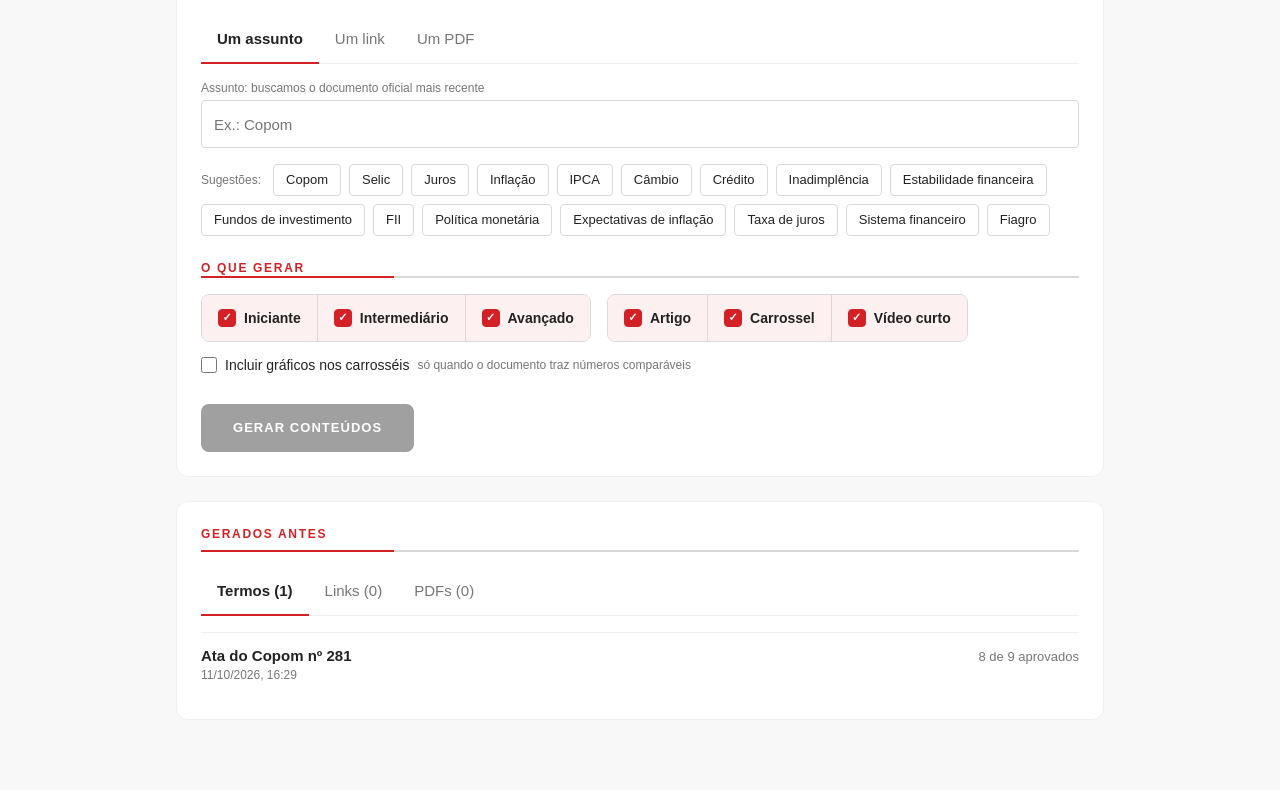
App › abre uma execução do histórico e volta ao início
(page scrolled)
Click the text "Ata do Copom nº 281": (276, 656) [201,647,352,664]
(page scrolled)
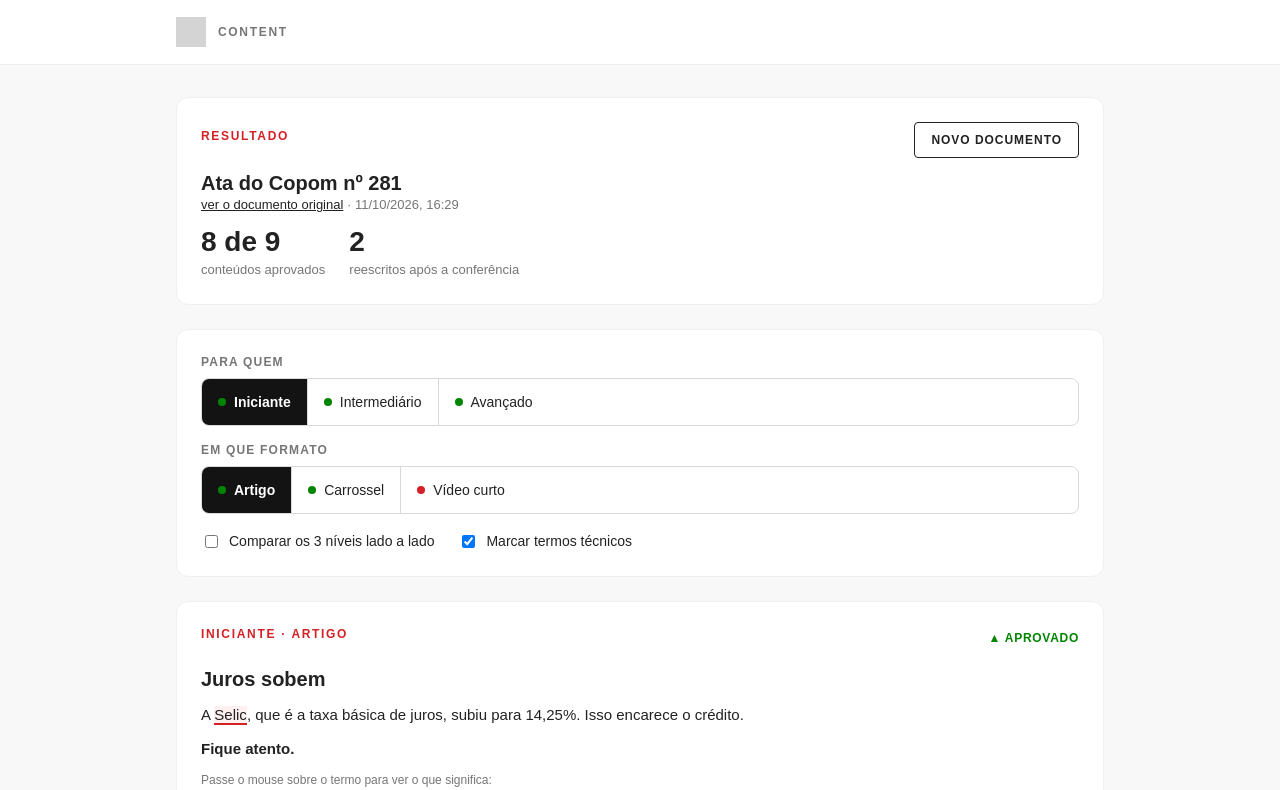
Expected: the text "8 de 9" is shown, [201,226,280,257]
Now the heading "Iniciante · Artigo" is shown, box [201,627,348,641]
Click the button "Novo documento": (997, 140) [914,122,1079,158]
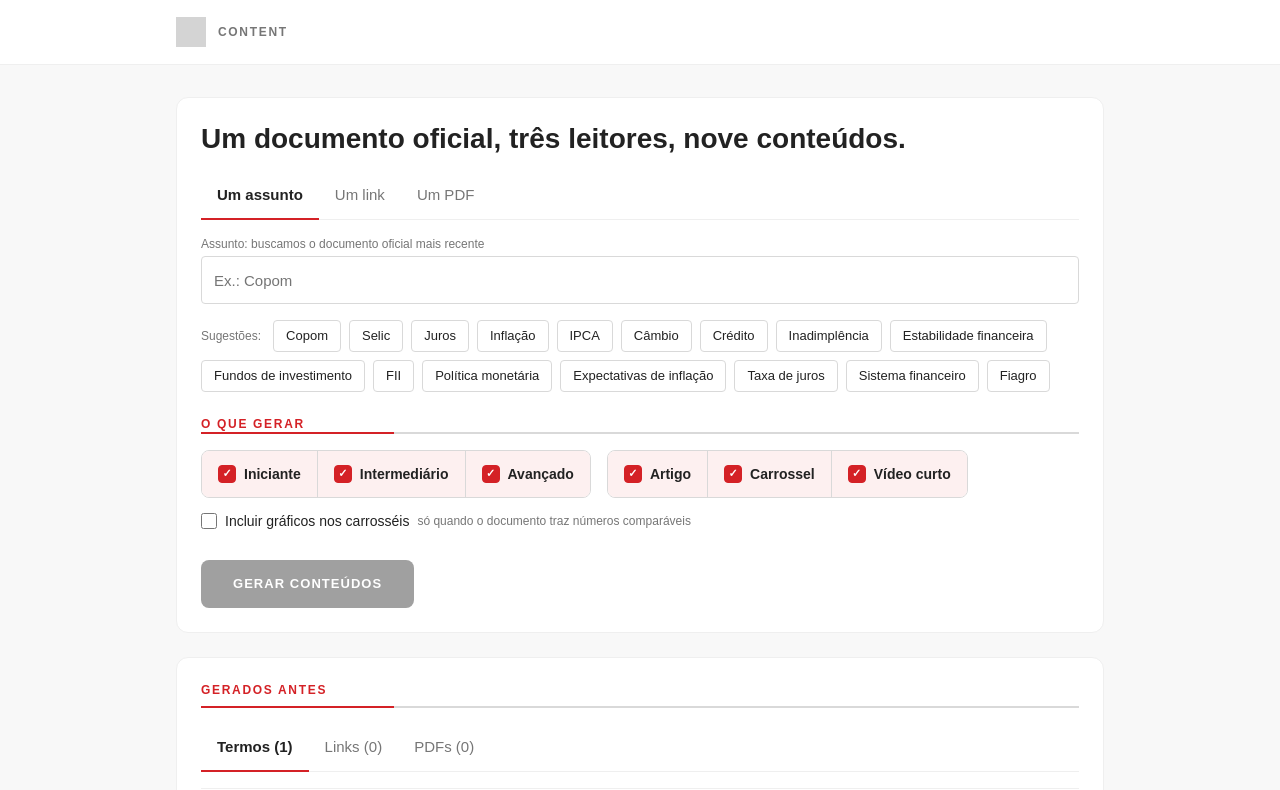
Now the heading "Um documento oficial, três leitores, nove conteúdos." is shown, box [201,123,906,154]
